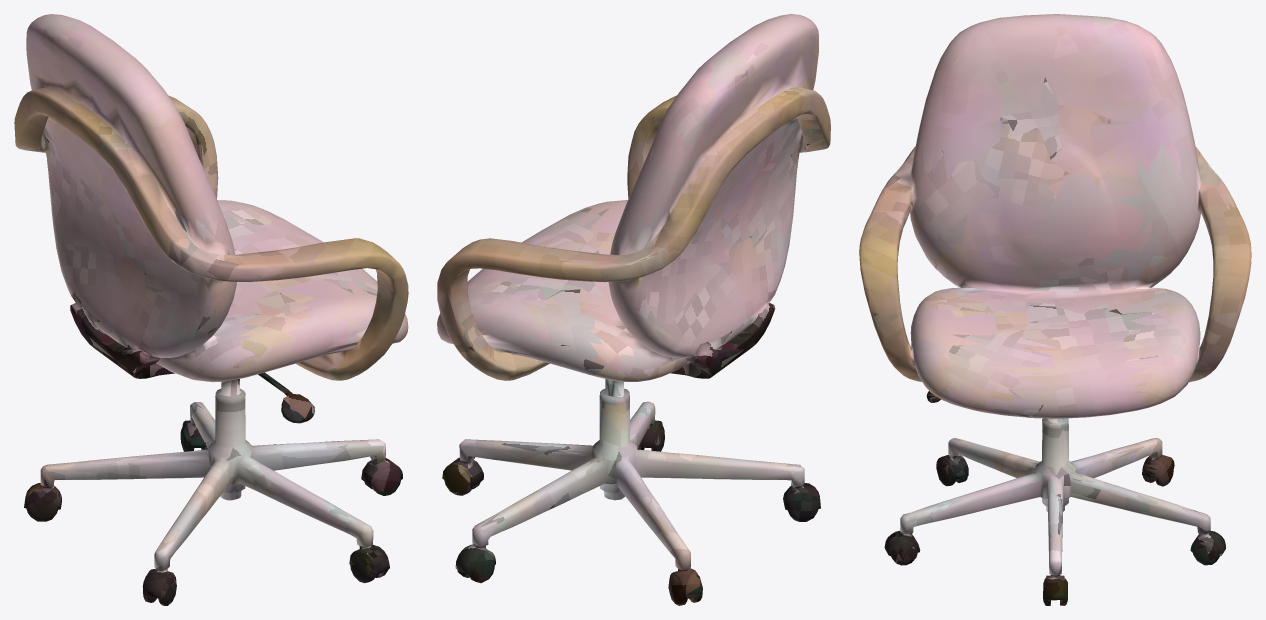
Rendered from JP_사물_s2_office_chair.glb.
3 renders of one model, left to right at view 1: azimuth 30°, elevation 25°; view 2: azimuth 150°, elevation 25°; view 3: azimuth 270°, elevation 25°, orthographic. The views are drawn at different scales.
Parts seen in each view (by area): view 1: tripo_node_29731317-1863-4689-a7e3-7678a4e7fbb5; view 2: tripo_node_29731317-1863-4689-a7e3-7678a4e7fbb5; view 3: tripo_node_29731317-1863-4689-a7e3-7678a4e7fbb5.
Boxes of the visible parts, left/top/right/bottom form: tripo_node_29731317-1863-4689-a7e3-7678a4e7fbb5: left=14, top=14, right=408, bottom=605; tripo_node_29731317-1863-4689-a7e3-7678a4e7fbb5: left=437, top=14, right=830, bottom=605; tripo_node_29731317-1863-4689-a7e3-7678a4e7fbb5: left=859, top=14, right=1251, bottom=605.
Bounding box in the file's own units: 0.6579 × 1 × 0.7667.
Materials: 1 (1 with a texture image).
